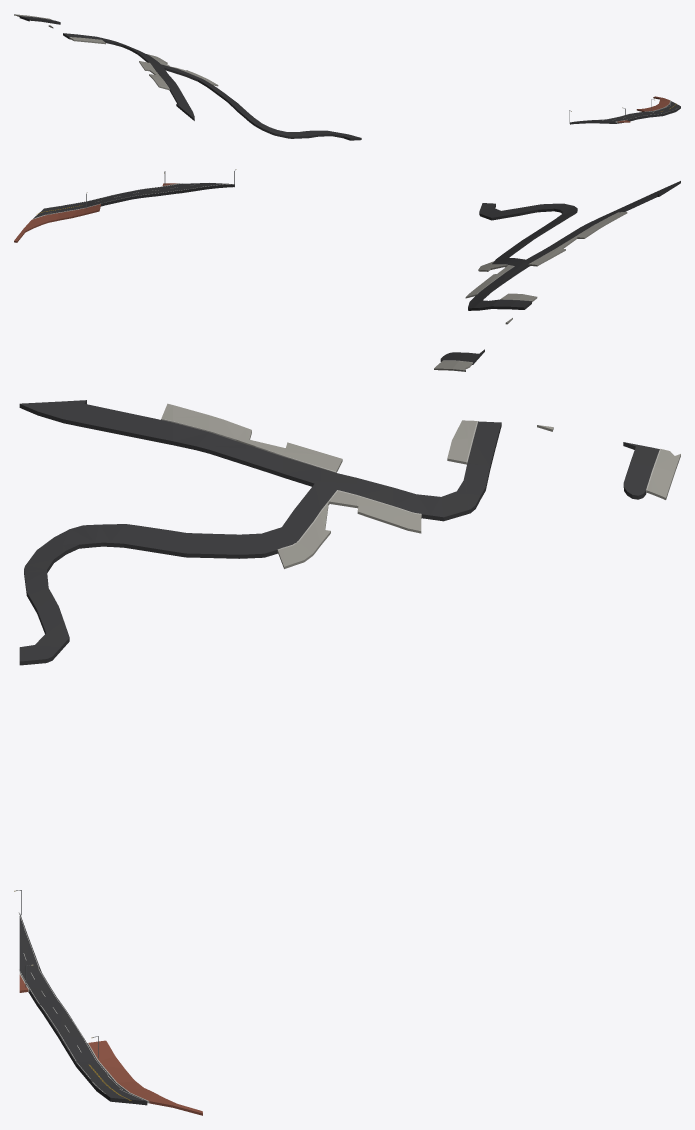
Rendered from 17-109457-59474.ccd38e0f.glb.
The picture shows the model from 3 angles, top to bottom: view 1: azimuth 30°, elevation 25°; view 2: azimuth 150°, elevation 25°; view 3: azimuth 270°, elevation 25°; orthographic projection. The views are drawn at different scales.
Size of the model in its own units: 294 by 77.94 by 181.
